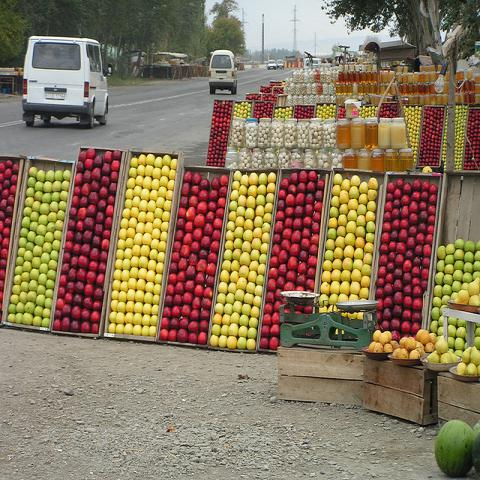car: (21, 36, 113, 131), (208, 50, 238, 96), (303, 57, 322, 70), (196, 58, 208, 66), (276, 58, 284, 70), (268, 60, 276, 70)
